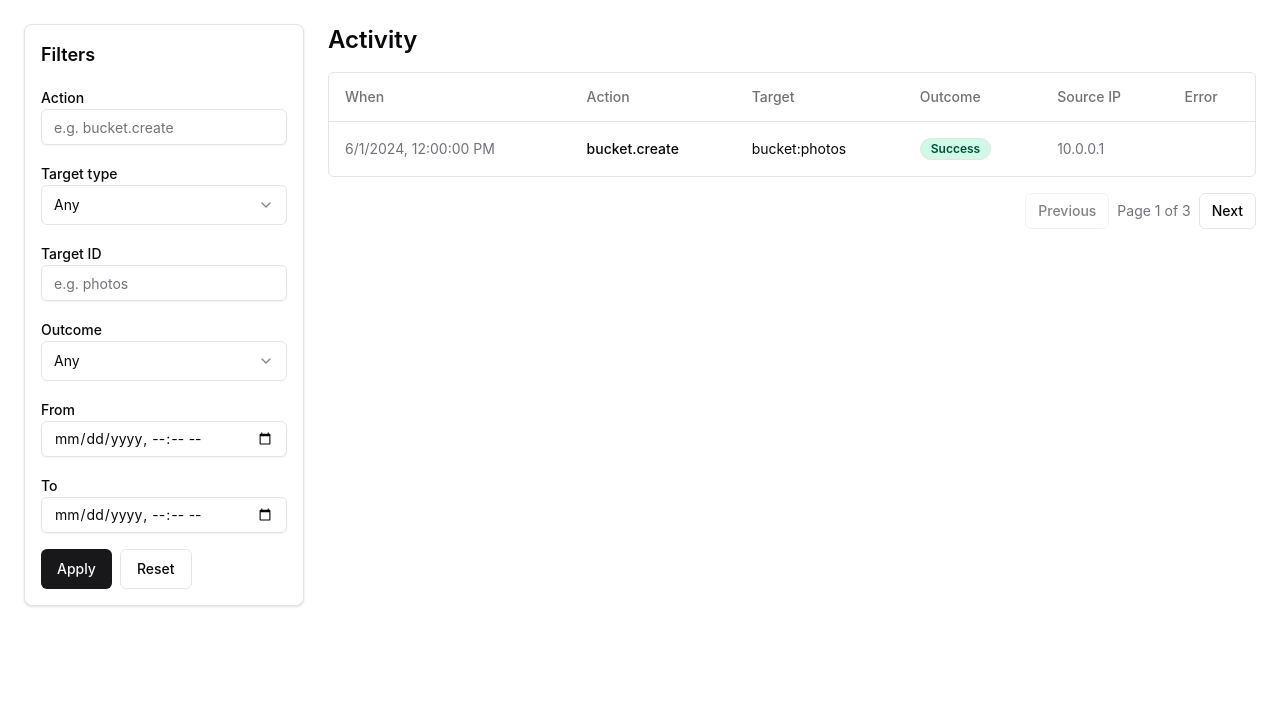
Test: ActivityFeedPage › pagination Next changes page query param
Expected: the text "bucket.create" is shown, [571,121,736,176]
Click the button "Next" at (1227, 210), box [1199,192,1256,228]
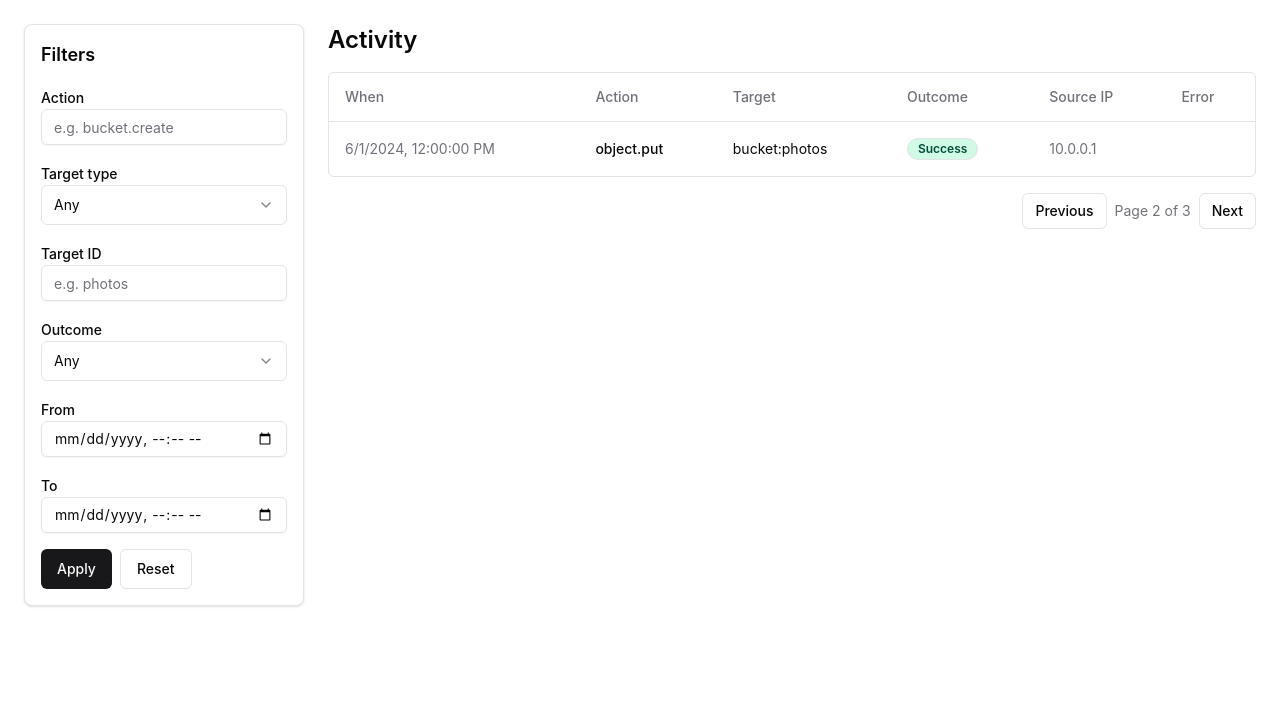
Expected: the text "object.put" is shown, [579,121,717,176]
